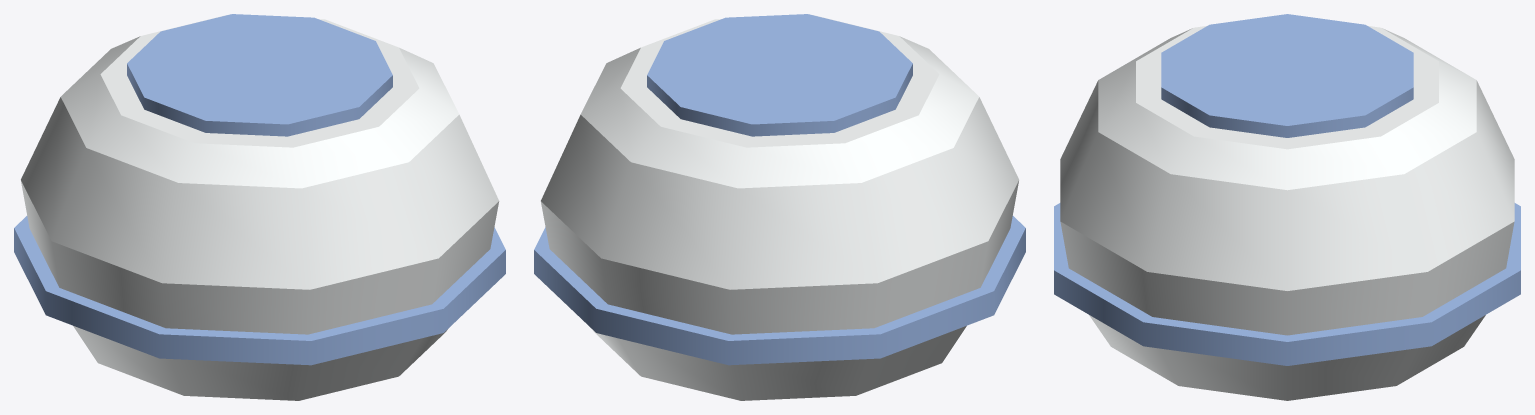
File: poufKnit.glb
3 renders of one model, left to right at view 1: azimuth 30°, elevation 25°; view 2: azimuth 150°, elevation 25°; view 3: azimuth 270°, elevation 25°, orthographic.
Parts seen in each view (by area): view 1: poufKnit; view 2: poufKnit; view 3: poufKnit.
Part boxes in pixels (<box>): poufKnit: <box>14,14,505,400</box>; poufKnit: <box>534,14,1025,400</box>; poufKnit: <box>1054,14,1520,400</box>.
Bounding box in the file's own units: 0.37 × 0.21 × 0.3519.
